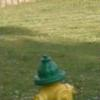Hydrant: (24, 46, 81, 100)
